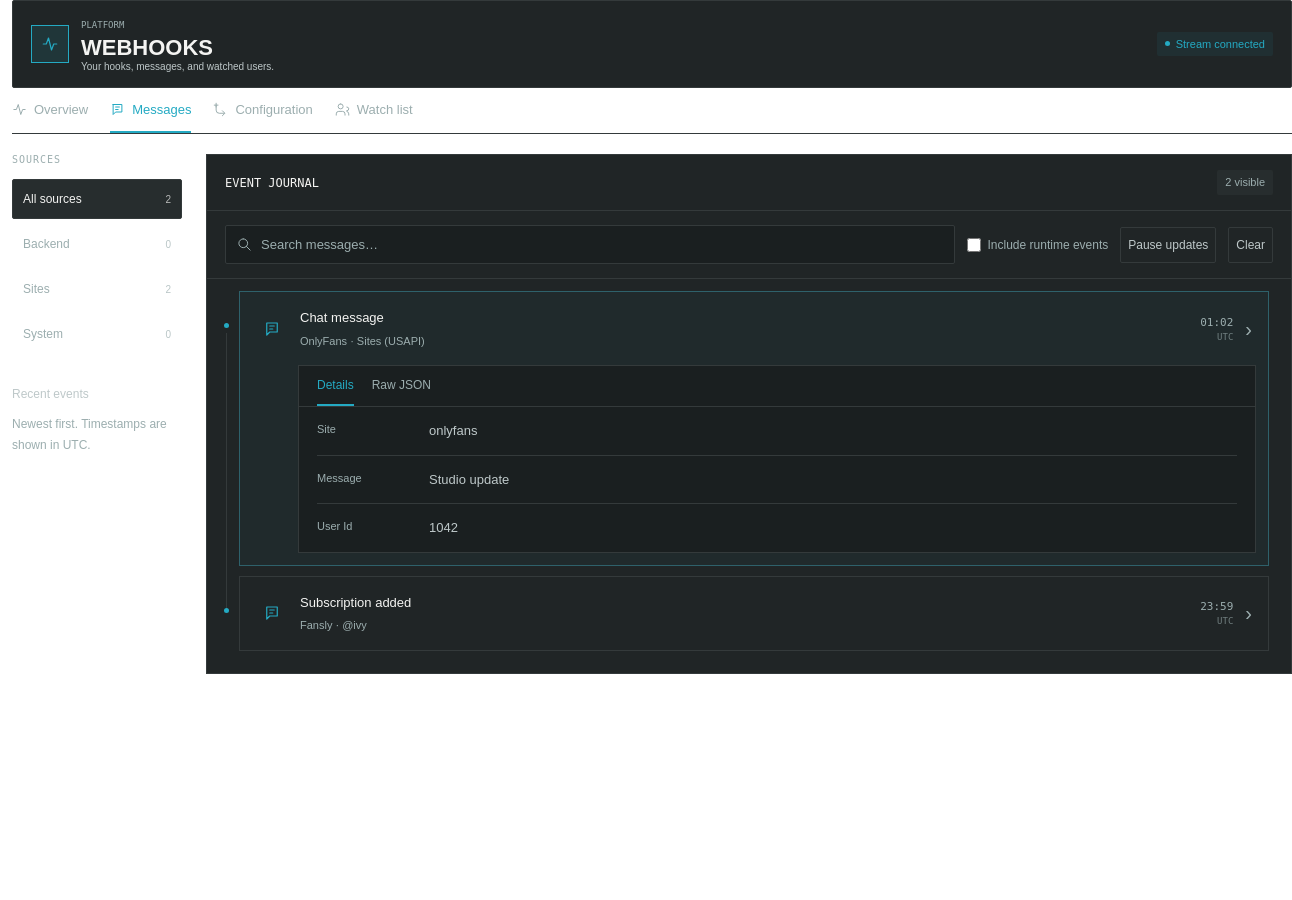
it: complete Event Journal workspace › keeps the watch roster, search, site filters, pause/resume, add, remove, and undo wired to their APIs
Later steps or results of the test are not shown.
Click the button "Watch list" at x=374, y=111, box [335,88,413,133]
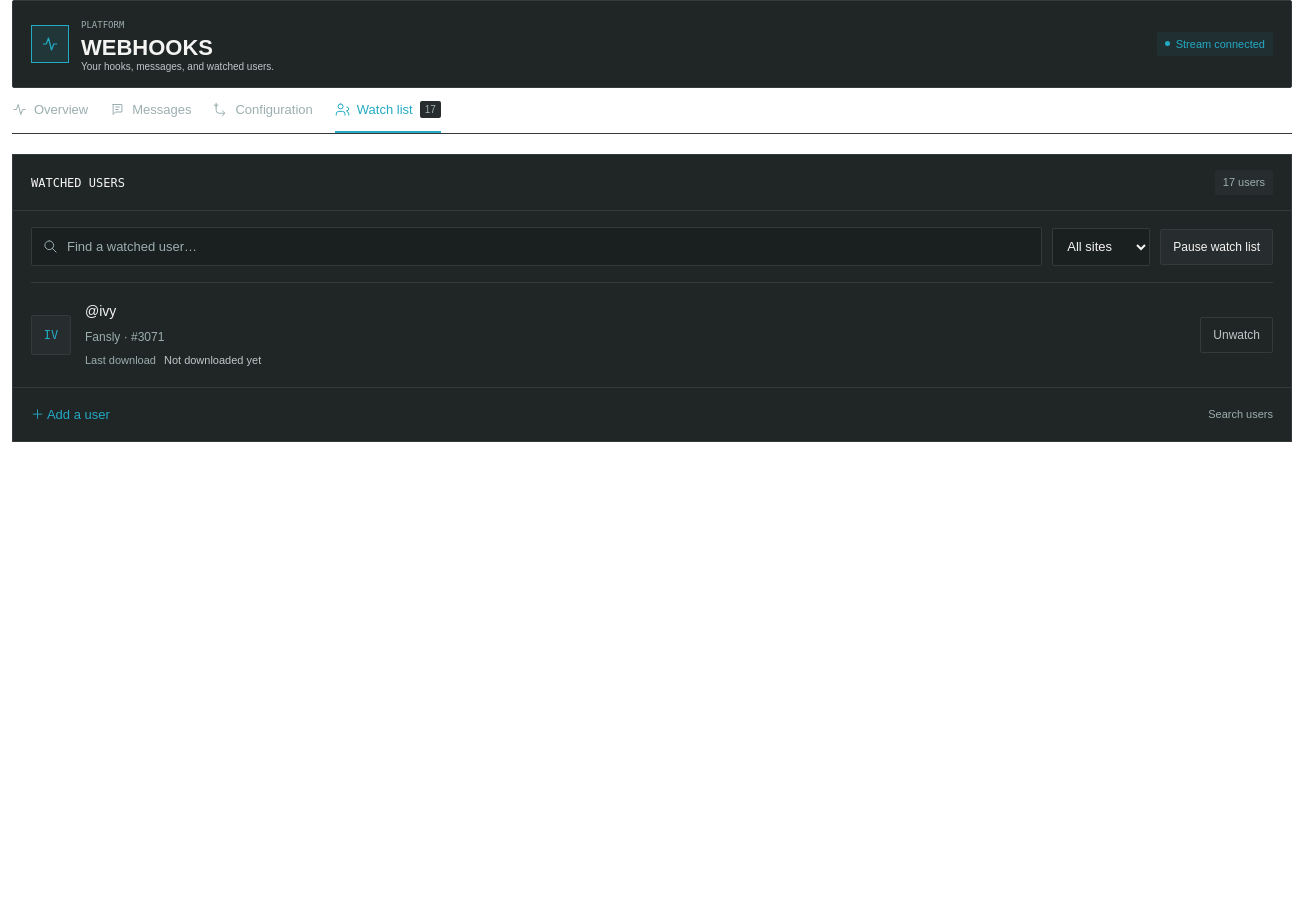
expect the button with aria-label "Unwatch ivy" is shown: met, box [1200,317,1273,353]
